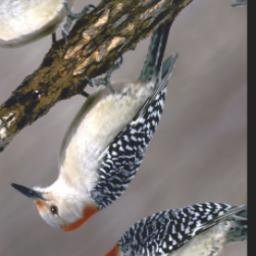Woodpecker: (0, 13, 215, 256)
